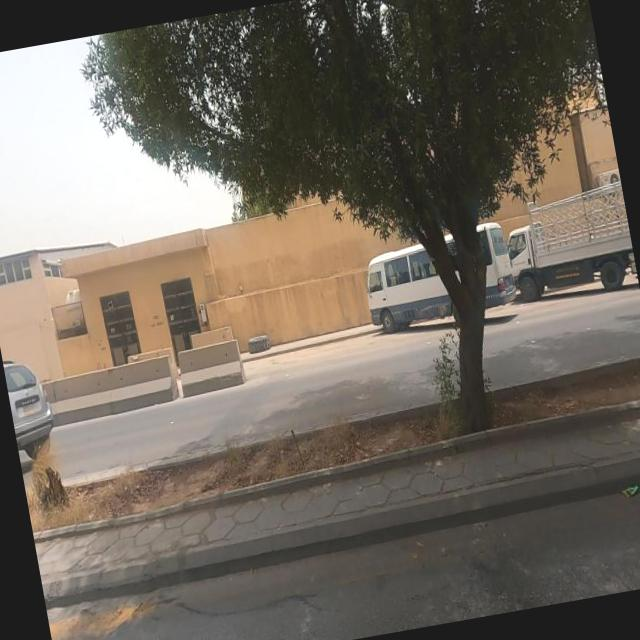debris: (593, 454, 640, 524)
